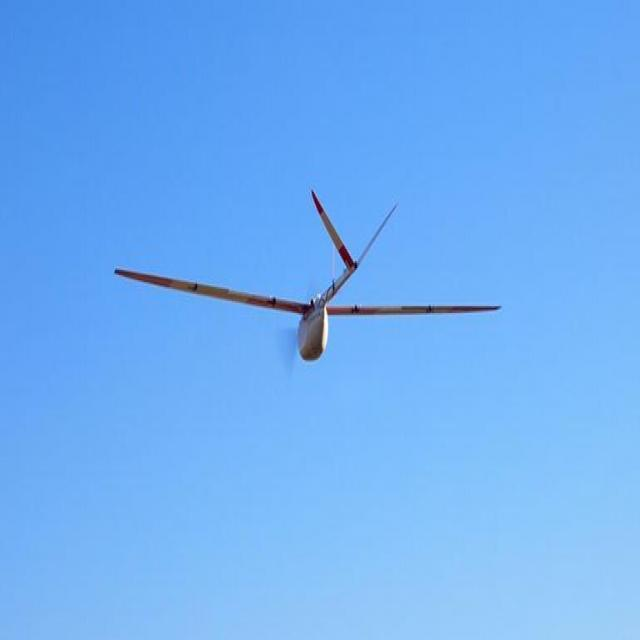iha: (117, 181, 507, 386)
